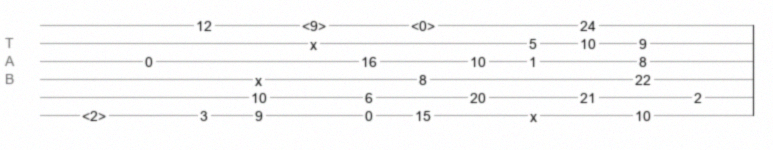0: (145, 54, 153, 64), (365, 108, 373, 118)
1: (529, 54, 537, 64)
10: (251, 90, 267, 100), (470, 54, 486, 64), (580, 36, 596, 46), (635, 108, 651, 118)
12: (196, 18, 212, 28)
15: (415, 108, 431, 118)
16: (361, 54, 377, 64)
2: (694, 90, 702, 100)
20: (470, 90, 486, 100)
21: (580, 90, 596, 100)
22: (635, 72, 651, 82)
24: (580, 18, 596, 28)
3: (200, 108, 208, 118)
5: (529, 36, 537, 46)
6: (365, 90, 373, 100)
8: (419, 72, 427, 82), (639, 54, 647, 64)
9: (255, 108, 263, 118), (639, 36, 647, 46)
harmonic: (82, 108, 106, 118), (302, 18, 326, 28), (411, 18, 435, 28)
x: (255, 73, 262, 81), (310, 37, 317, 45), (530, 109, 537, 117)
